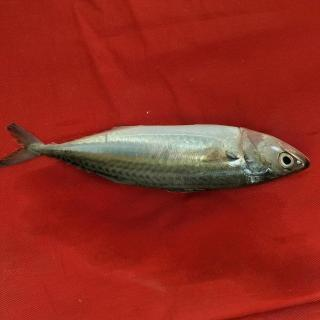Ikan: (1, 91, 313, 204)
